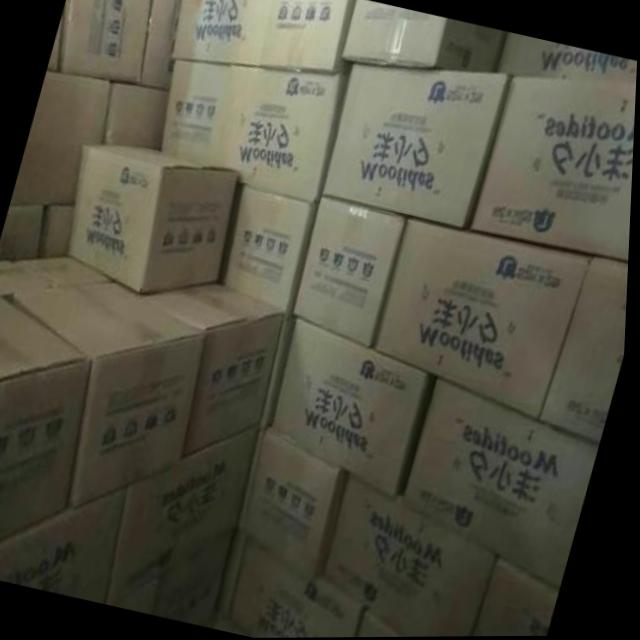box: (11, 282, 207, 512), (375, 218, 590, 423), (403, 377, 603, 588), (321, 65, 514, 230), (468, 76, 637, 264), (273, 316, 441, 499), (325, 472, 501, 637), (110, 430, 265, 602), (143, 282, 287, 462), (67, 143, 240, 292), (0, 294, 91, 544), (221, 62, 352, 203), (293, 198, 408, 350), (240, 429, 353, 582), (543, 256, 631, 446), (214, 533, 370, 638), (0, 489, 127, 602), (13, 73, 112, 207), (220, 186, 320, 313), (337, 0, 504, 73), (109, 534, 239, 626), (161, 58, 238, 165), (61, 0, 150, 88), (250, 0, 351, 75), (493, 32, 638, 84), (474, 554, 564, 637), (176, 0, 262, 65), (0, 254, 113, 297), (260, 313, 298, 433), (105, 83, 171, 152), (140, 0, 182, 93), (0, 204, 46, 262), (41, 205, 73, 259), (361, 610, 410, 638), (48, 19, 62, 74)
